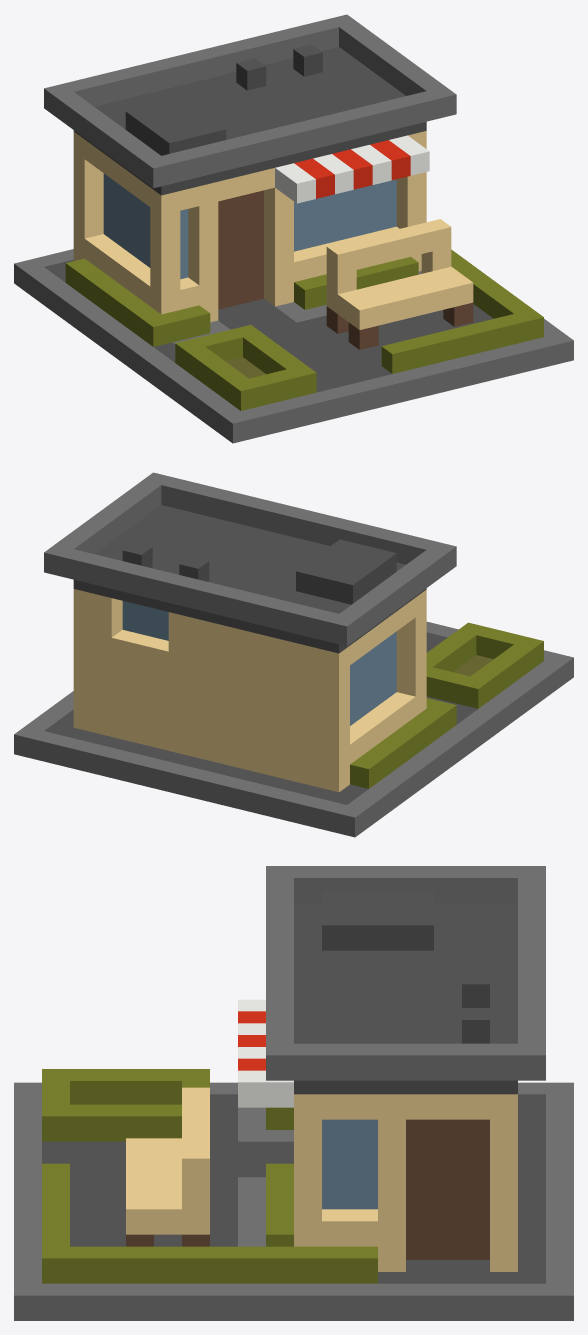
3 views of the same model, one above another, from view 1: azimuth 30°, elevation 25°; view 2: azimuth 150°, elevation 25°; view 3: azimuth 270°, elevation 25° (orthographic). The views are drawn at different scales.
Parts seen in each view (by area): view 1: b_18_02; view 2: b_18_02; view 3: b_18_02.
Boxes of the visible parts, <box> form: b_18_02: <box>14,14,573,443</box>; b_18_02: <box>14,472,573,837</box>; b_18_02: <box>14,866,573,1320</box>.
Size of the model in its own units: 18 by 10 by 20.
